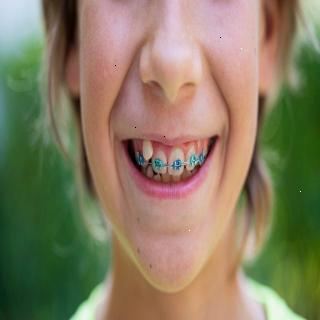maligned: (139, 138, 155, 162), (152, 171, 162, 185)
